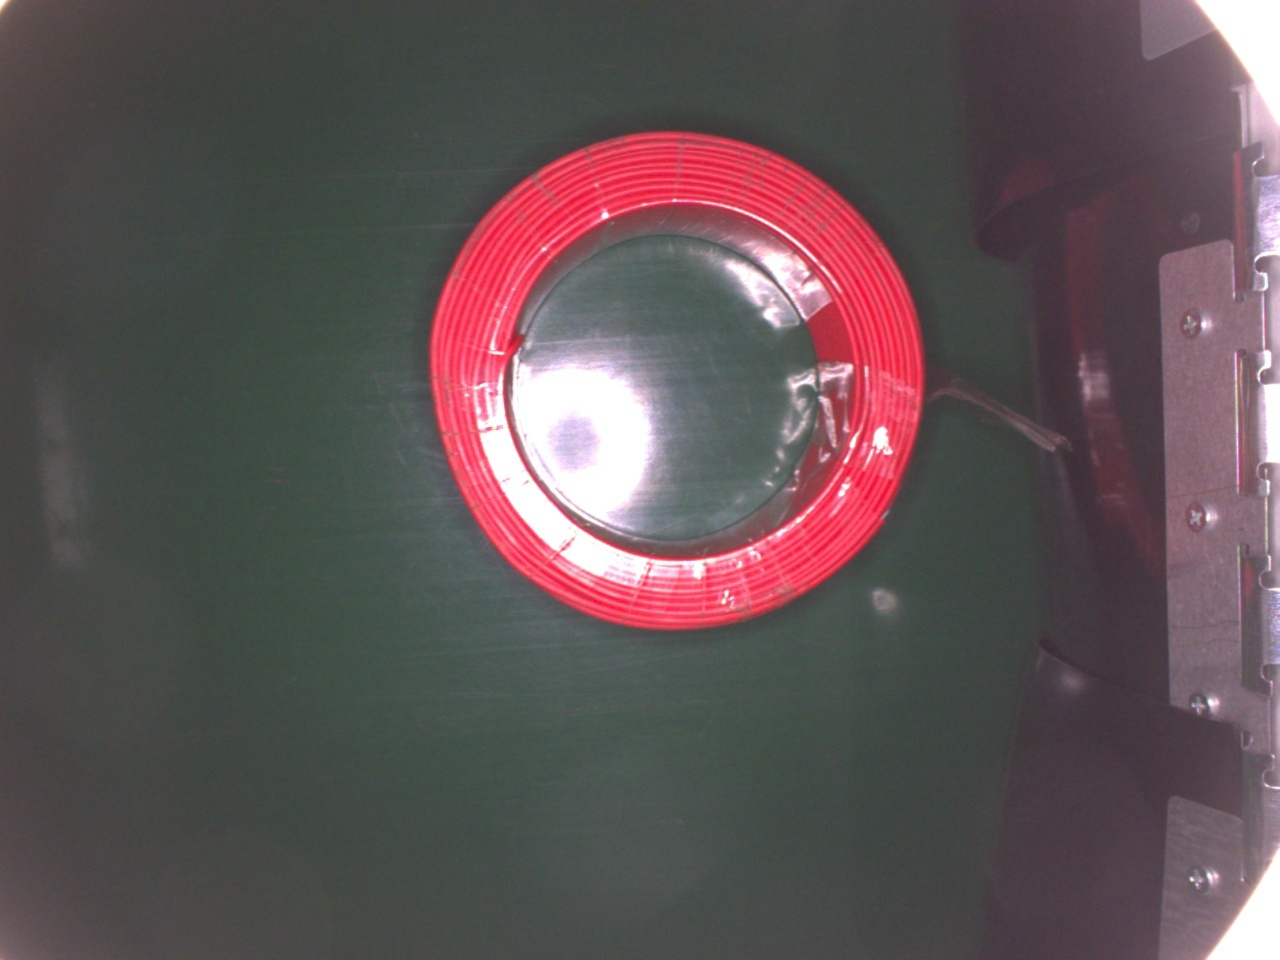red: (423, 127, 925, 641)
